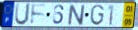1: (107, 4, 115, 27)
6: (52, 4, 65, 26)
F: (30, 4, 48, 27)
G: (90, 4, 106, 26)
N: (67, 4, 86, 26)
U: (13, 3, 32, 27)
